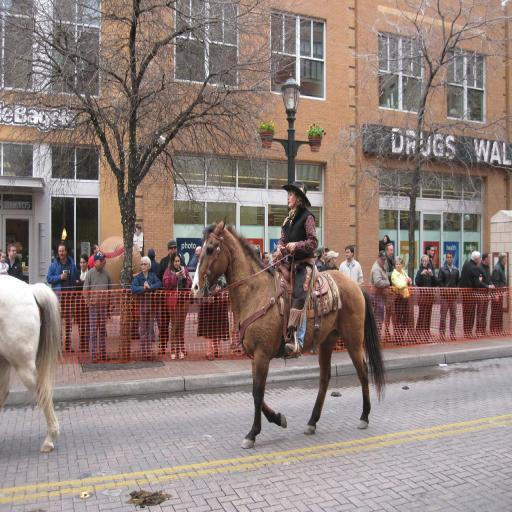horse: (190, 214, 390, 448), (0, 272, 63, 454)
